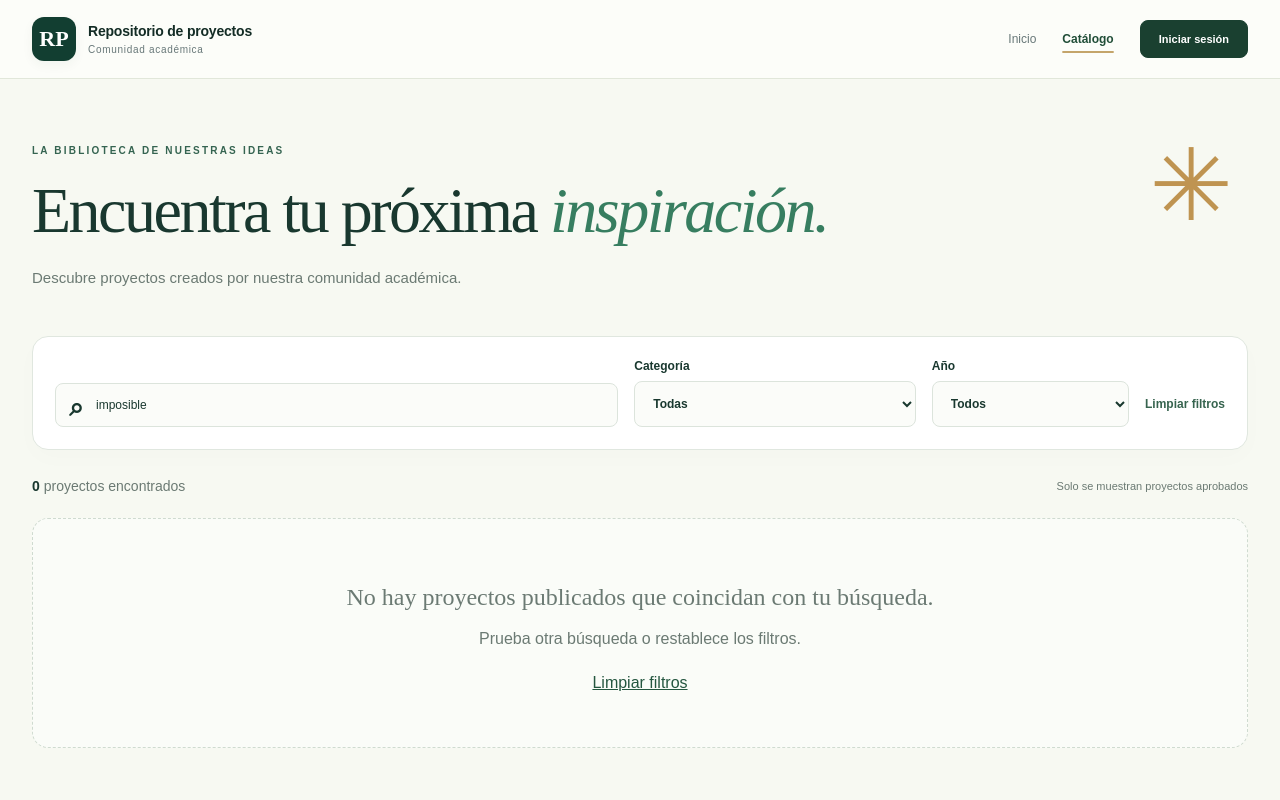
Test: Migración de pantallas y permisos › limpia filtros del catálogo y recupera proyectos
The width and height of the screenshot is (1280, 800).
Click the button "Limpiar filtros" below "Año" at [1185, 404], box x1=1145 y1=381 x2=1225 y2=427
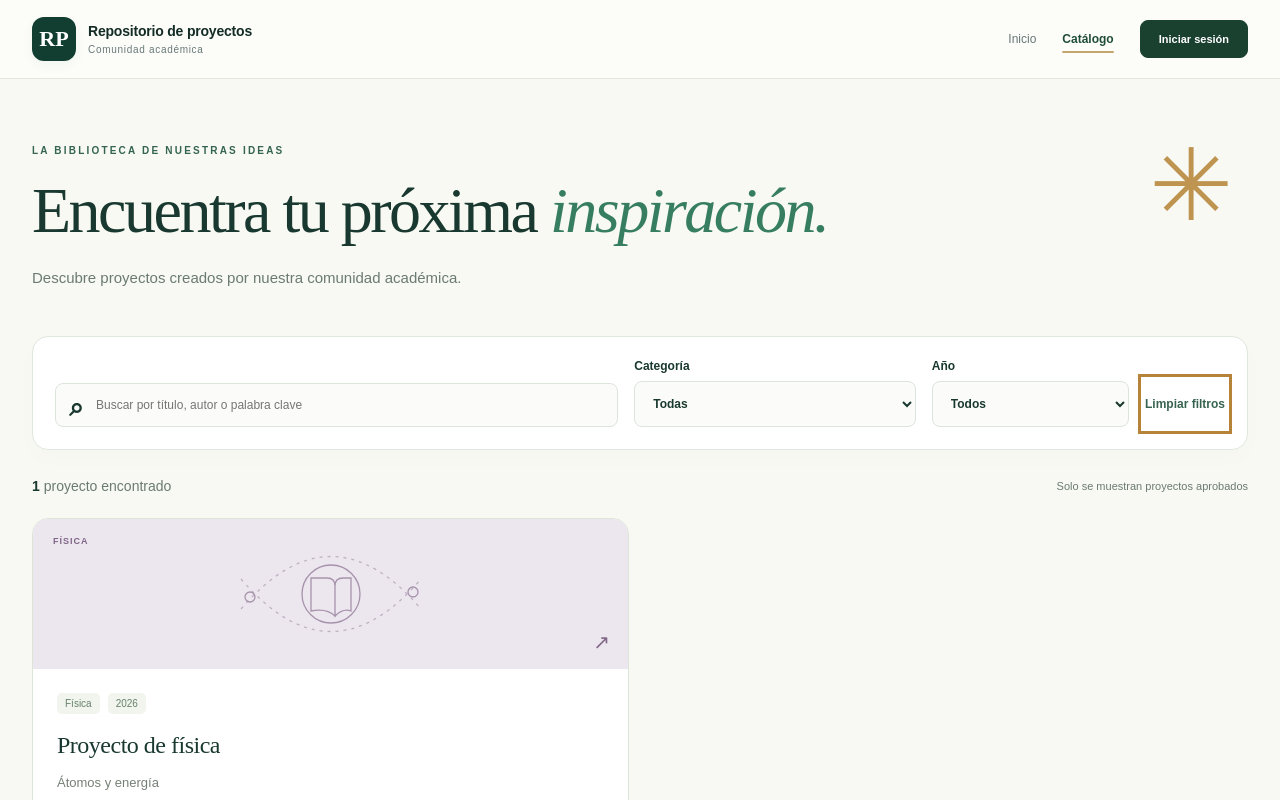
Expected: the heading "Proyecto de física" is shown, x1=57 y1=732 x2=220 y2=758
